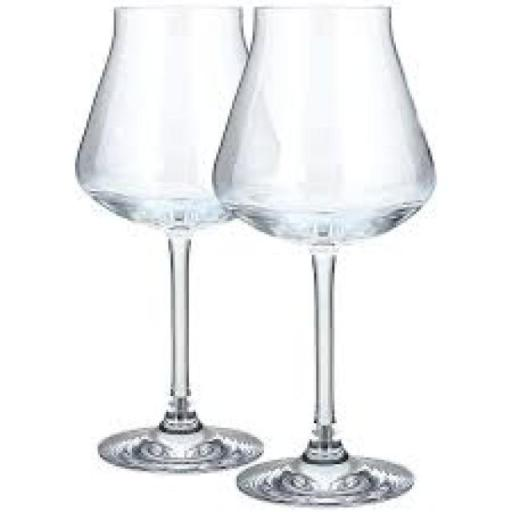glass: (212, 0, 478, 512), (60, 0, 278, 512)
